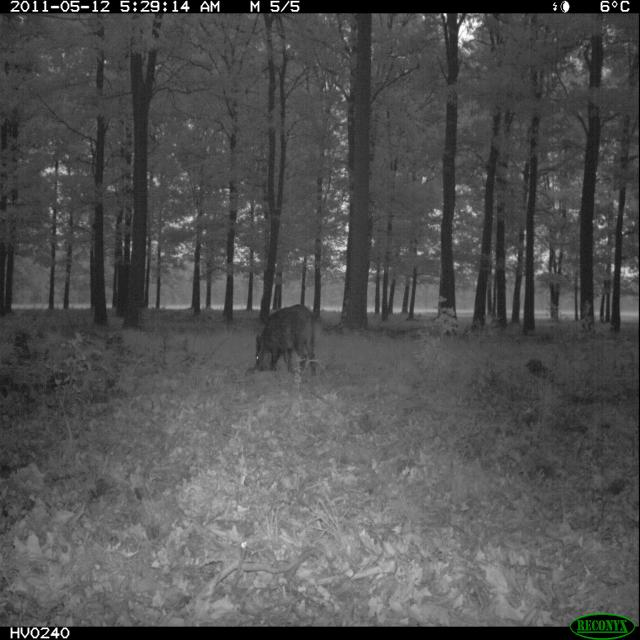boar: (0, 294, 110, 414), (239, 306, 337, 400)
